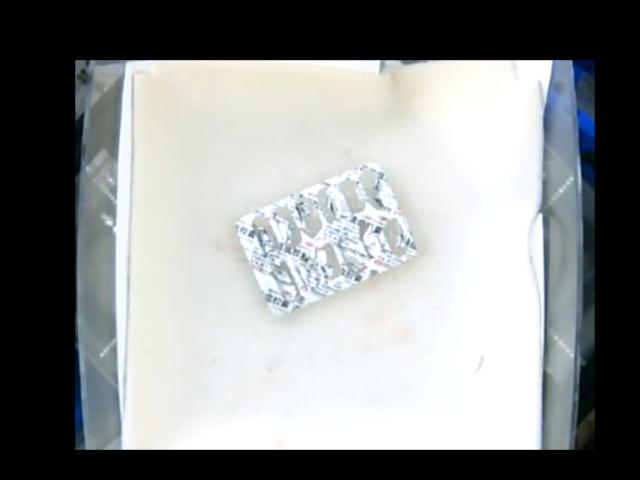Medicine: (240, 162, 418, 312)
